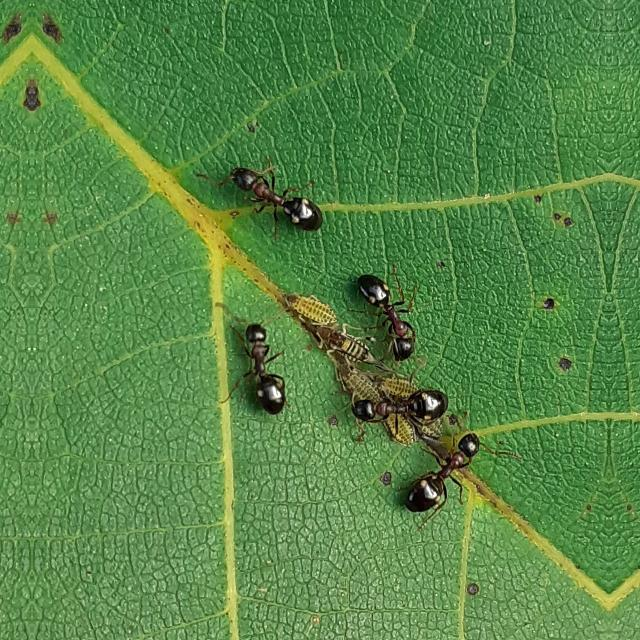Dolichoderus: (214, 145, 338, 247), (395, 420, 495, 524), (348, 264, 432, 370), (344, 369, 458, 439), (228, 310, 294, 420)
